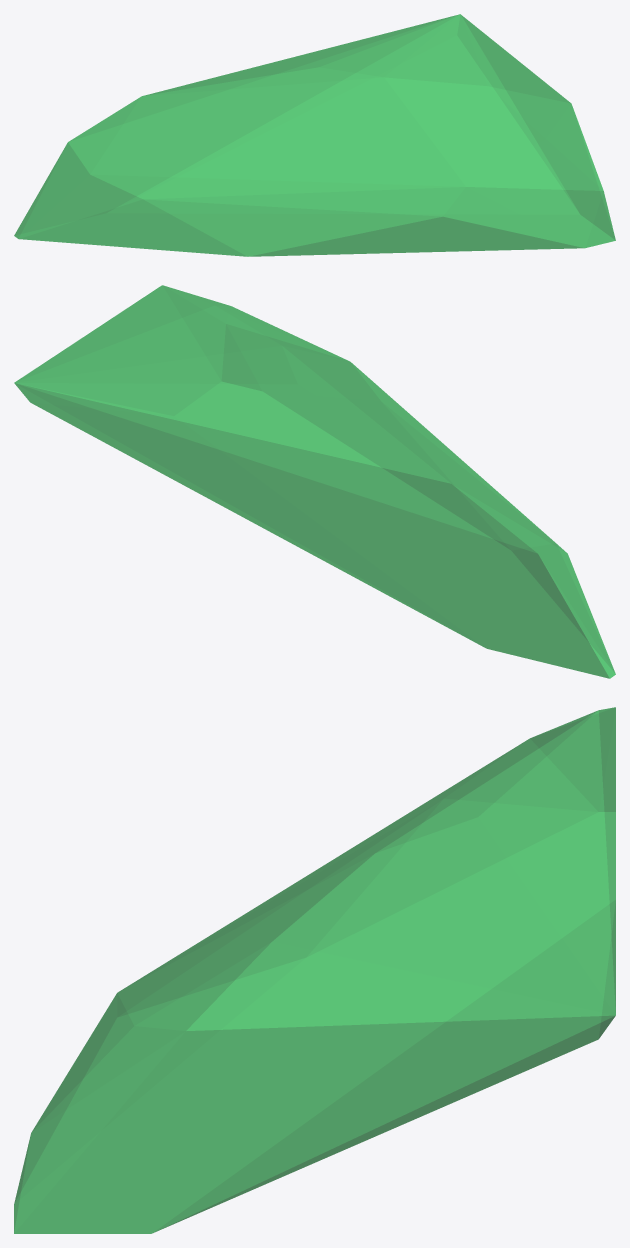
3 renders of one model, top to bottom at view 1: azimuth 30°, elevation 25°; view 2: azimuth 150°, elevation 25°; view 3: azimuth 270°, elevation 25°, orthographic. The views are drawn at different scales.
Parts seen in each view (by area): view 1: Shape_IndexedFaceSet.001_Shape_IndexedFaceSet.16403; view 2: Shape_IndexedFaceSet.001_Shape_IndexedFaceSet.16403; view 3: Shape_IndexedFaceSet.001_Shape_IndexedFaceSet.16403.
Boxes of the visible parts, x1,y1,x2,y2 form: Shape_IndexedFaceSet.001_Shape_IndexedFaceSet.16403: (14,14,615,256); Shape_IndexedFaceSet.001_Shape_IndexedFaceSet.16403: (14,285,615,678); Shape_IndexedFaceSet.001_Shape_IndexedFaceSet.16403: (14,707,615,1233).
Size of the model in its own units: 0.0133 by 0.00368 by 0.00804.
